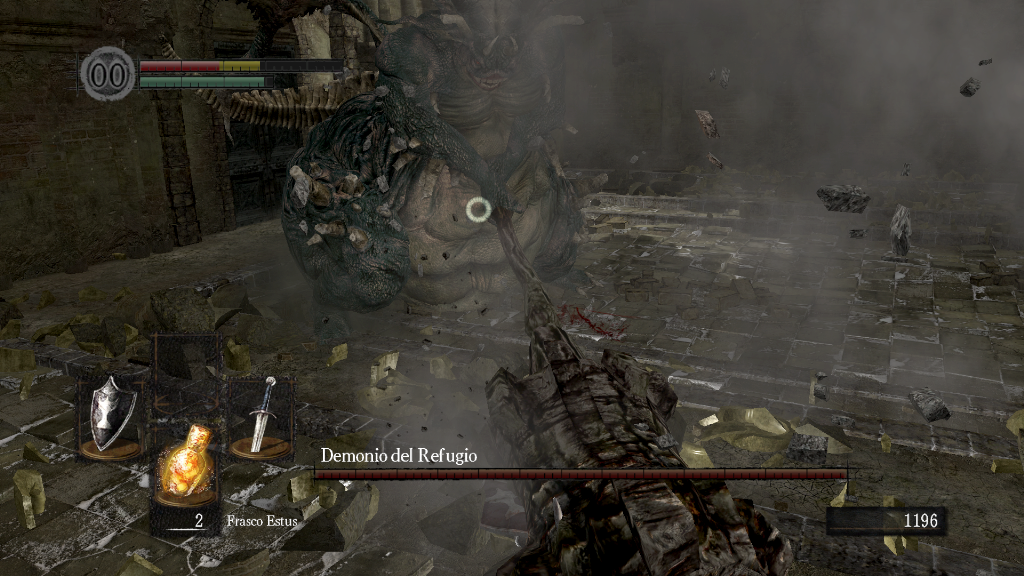asylumDemon: (159, 1, 594, 355)
bossHP: (314, 469, 847, 479)
health: (138, 58, 343, 71)
humanity: (80, 45, 136, 102)
souls: (825, 506, 945, 536)
stamina: (138, 74, 274, 88)
